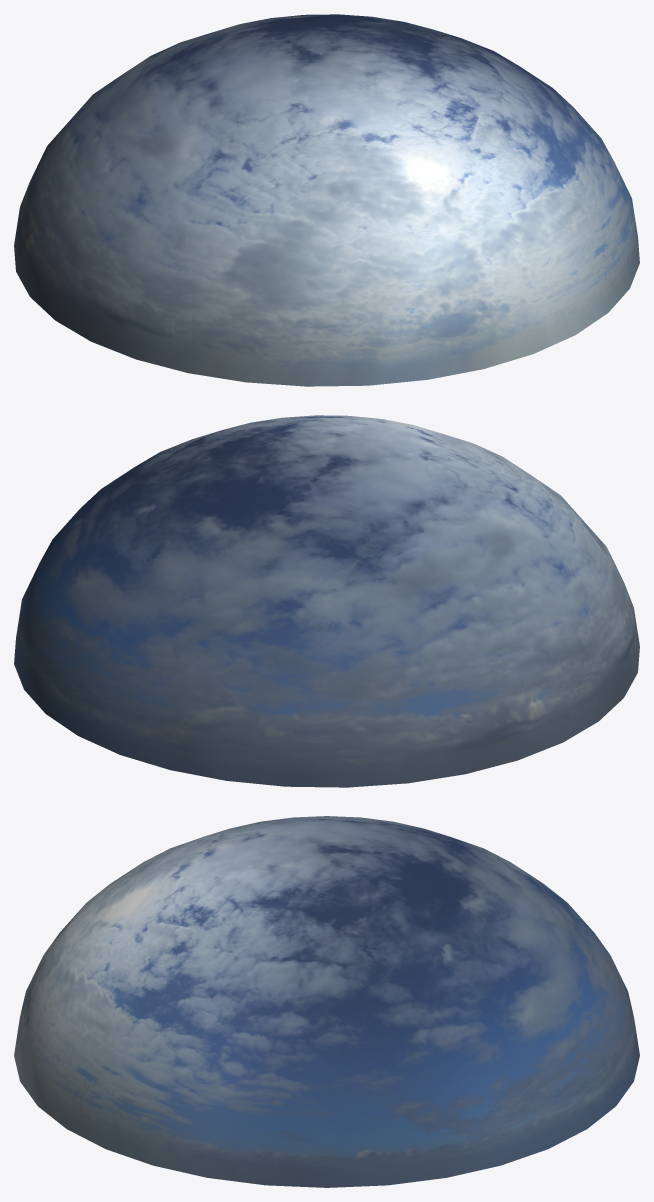
The model's file is skydome.FBX.
3 views of the same model, one above another, from view 1: azimuth 30°, elevation 25°; view 2: azimuth 150°, elevation 25°; view 3: azimuth 270°, elevation 25° (orthographic).
Visible parts, largest first — view 1: Sphere001; view 2: Sphere001; view 3: Sphere001.
Boxes of the visible parts, <box> form: Sphere001: <box>14,14,639,386</box>; Sphere001: <box>14,415,639,787</box>; Sphere001: <box>14,816,639,1187</box>.
Size of the model in its own units: 4096 by 1442 by 4096.
